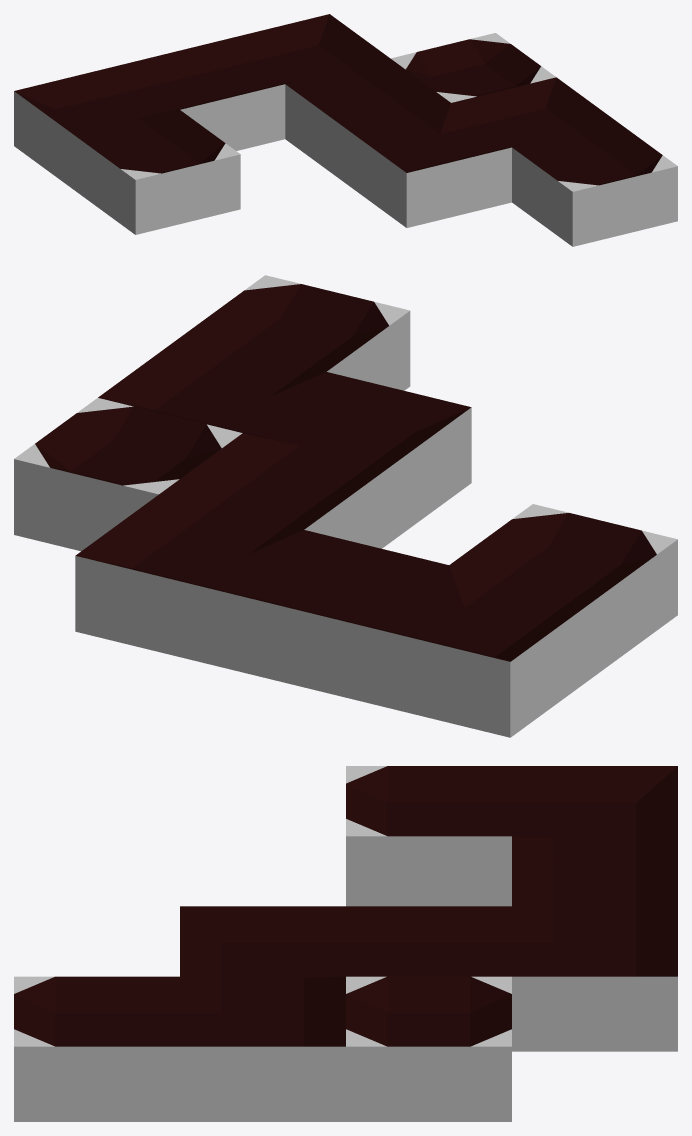
Rendered from 49f_path.obj.
3 renders of one model, top to bottom at view 1: azimuth 30°, elevation 25°; view 2: azimuth 150°, elevation 25°; view 3: azimuth 270°, elevation 25°, orthographic. The views are drawn at different scales.
Visible parts, largest first — view 1: foil.ending.0.3_ending.195, foil.ending.3.1_ending.196, foil.corner.2.2_corner.492, foil.through.1.4_through.095, foil.corner.0.4_corner.491, foil.through.2.3_through.096, foil.corner.2.4_corner.493, foil.corner.3.2_corner.494, foil.hole.3.3_Cube.099; view 2: foil.corner.0.4_corner.491, foil.through.1.4_through.095, foil.corner.2.4_corner.493, foil.ending.0.3_ending.195, foil.hole.3.3_Cube.099, foil.corner.2.2_corner.492, foil.ending.3.1_ending.196, foil.through.2.3_through.096, foil.corner.3.2_corner.494; view 3: foil.ending.3.1_ending.196, foil.hole.3.3_Cube.099, foil.ending.0.3_ending.195, foil.corner.2.4_corner.493, foil.corner.3.2_corner.494, foil.corner.2.2_corner.492, foil.corner.0.4_corner.491, foil.through.2.3_through.096, foil.through.1.4_through.095.
Part boxes in pixels (box(x1,y1,x2,y2)): foil.ending.0.3_ending.195: box(74, 110, 240, 234); foil.ending.3.1_ending.196: box(512, 122, 677, 246); foil.corner.2.2_corner.492: box(346, 103, 511, 227); foil.through.1.4_through.095: box(119, 39, 285, 150); foil.corner.0.4_corner.491: box(14, 65, 179, 189); foil.through.2.3_through.096: box(285, 58, 450, 183); foil.corner.2.4_corner.493: box(225, 14, 389, 91); foil.corner.3.2_corner.494: box(451, 77, 616, 154); foil.hole.3.3_Cube.099: box(390, 33, 555, 102); foil.corner.0.4_corner.491: box(365, 565, 594, 737); foil.through.1.4_through.095: box(220, 530, 448, 702); foil.corner.2.4_corner.493: box(75, 494, 303, 666); foil.ending.0.3_ending.195: box(449, 504, 677, 675); foil.hole.3.3_Cube.099: box(14, 398, 242, 551); foil.corner.2.2_corner.492: box(243, 372, 471, 543); foil.ending.3.1_ending.196: box(182, 275, 410, 390); foil.through.2.3_through.096: box(159, 433, 387, 548); foil.corner.3.2_corner.494: box(98, 336, 325, 436); foil.ending.3.1_ending.196: box(14, 976, 179, 1121); foil.hole.3.3_Cube.099: box(346, 976, 511, 1121); foil.ending.0.3_ending.195: box(346, 766, 511, 906); foil.corner.2.4_corner.493: box(512, 906, 677, 1051); foil.corner.3.2_corner.494: box(180, 976, 345, 1121); foil.corner.2.2_corner.492: box(180, 906, 345, 995); foil.corner.0.4_corner.491: box(512, 766, 677, 854); foil.through.2.3_through.096: box(346, 906, 511, 976); foil.through.1.4_through.095: box(512, 836, 677, 925).
Bounding box in the file's own units: 8 × 1 × 8.
